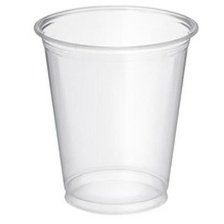glass: (27, 2, 202, 214)
